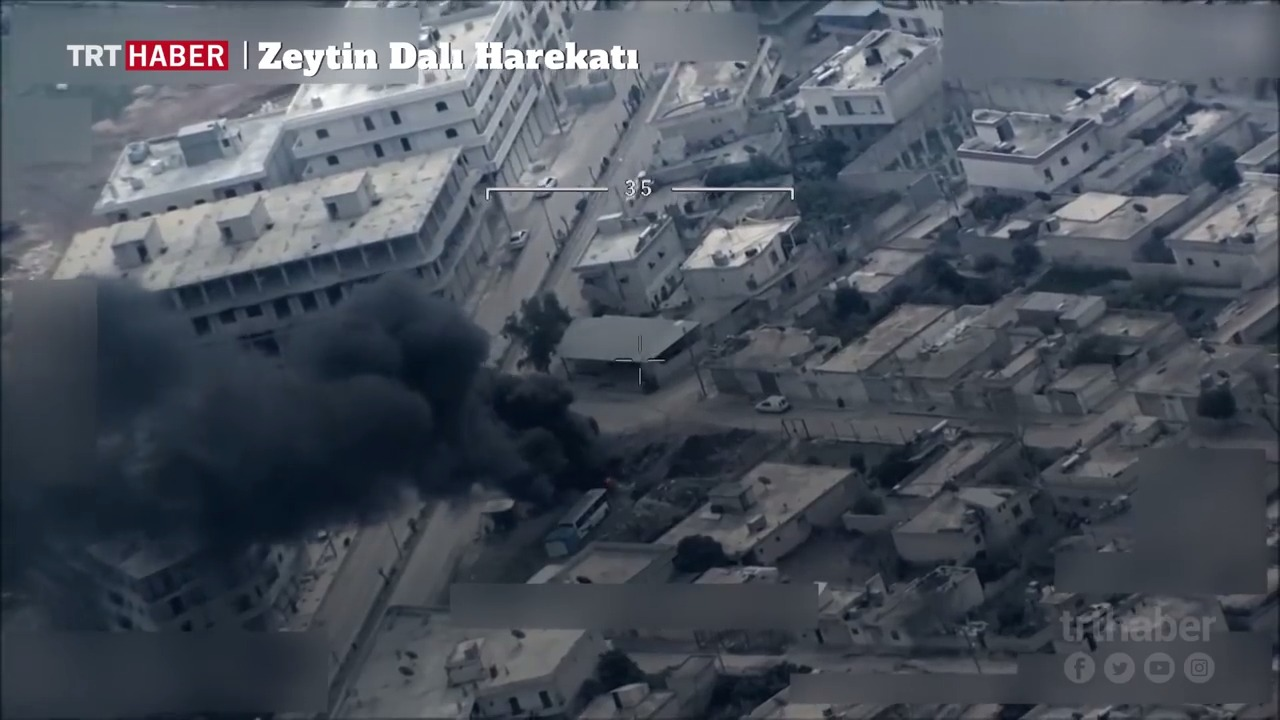arac: (750, 388, 802, 418), (530, 171, 561, 201), (505, 219, 533, 251)
